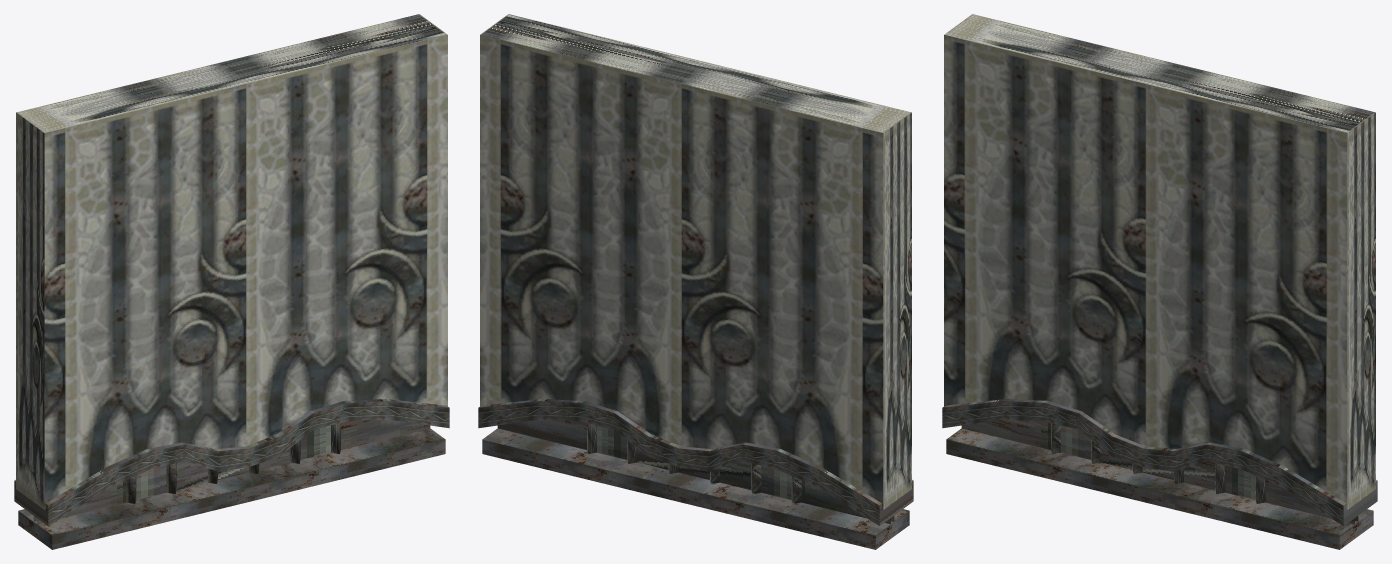
The model's file is door-shutter_00.dae.
3 views of the same model, side by side, from view 1: azimuth 30°, elevation 25°; view 2: azimuth 150°, elevation 25°; view 3: azimuth 330°, elevation 25° (orthographic).
Parts seen in each view (by area): view 1: Shape 0, Shape 1; view 2: Shape 0, Shape 1; view 3: Shape 0, Shape 1.
Part boxes in pixels (box(x1,y1,x2,y2)): Shape 0: box(16, 14, 447, 509); Shape 1: box(14, 399, 449, 549); Shape 0: box(480, 14, 911, 509); Shape 1: box(478, 399, 913, 549); Shape 0: box(944, 14, 1375, 509); Shape 1: box(942, 399, 1377, 549).
Bounding box in the file's own units: 410 × 404 × 60.
2 materials, 2 textured.
